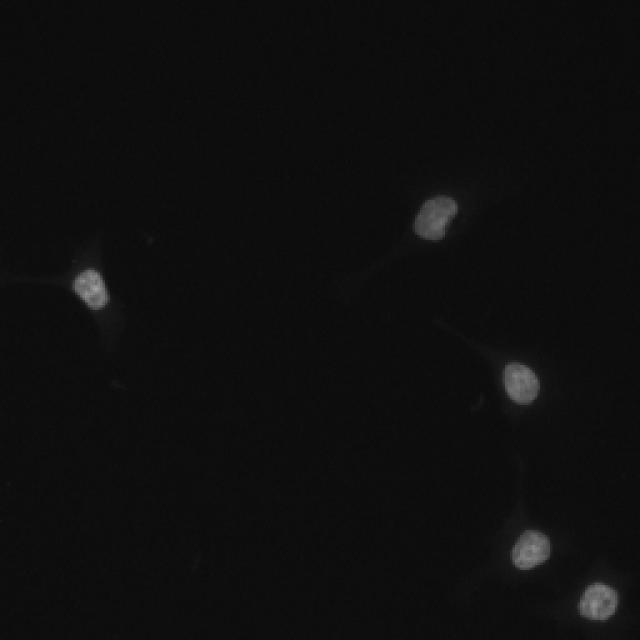cell: (412, 195, 459, 241), (501, 361, 539, 406), (71, 268, 110, 311), (511, 529, 551, 569), (72, 269, 110, 311), (579, 582, 619, 621)
